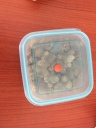Dolorex: (53, 64, 63, 73)
